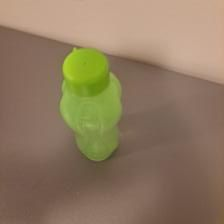bottle: (59, 45, 123, 165)
